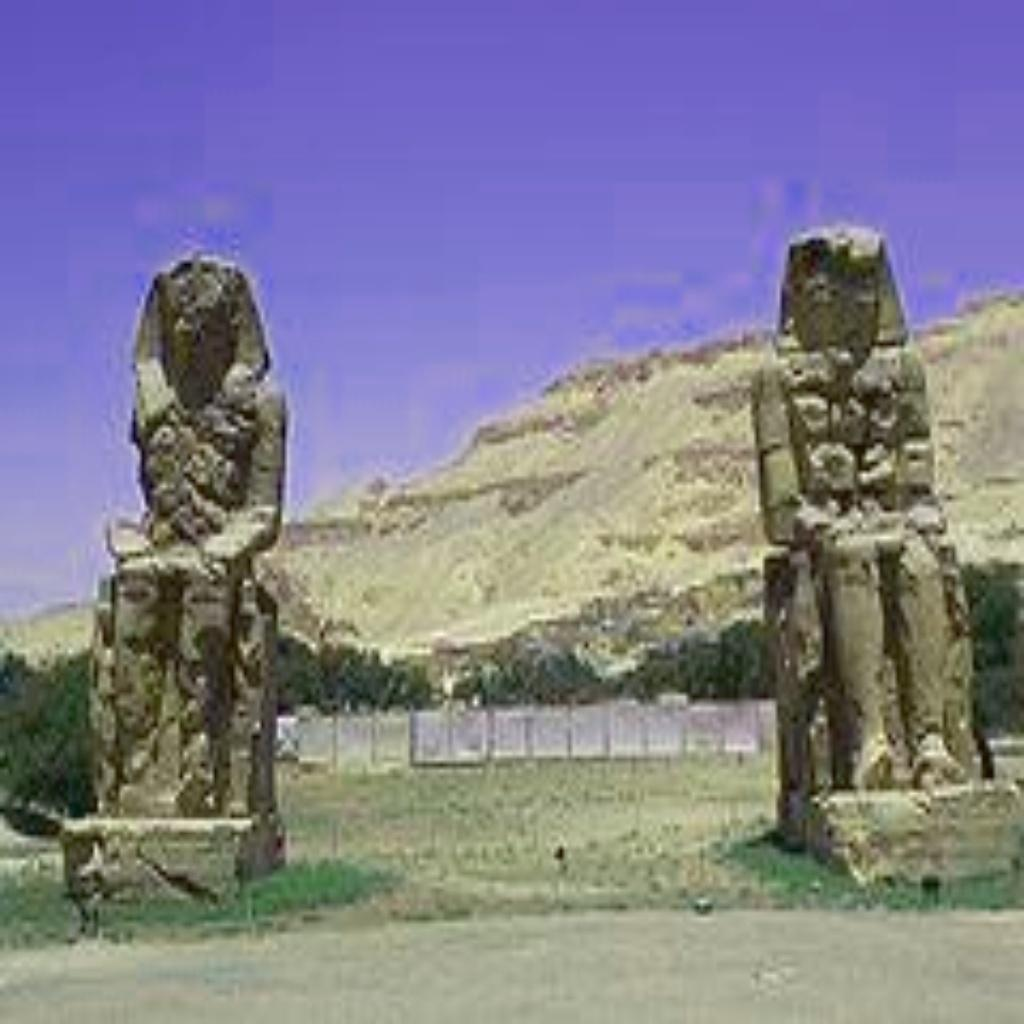Colossoi of Memnon: (60, 234, 303, 904), (742, 215, 990, 786)
